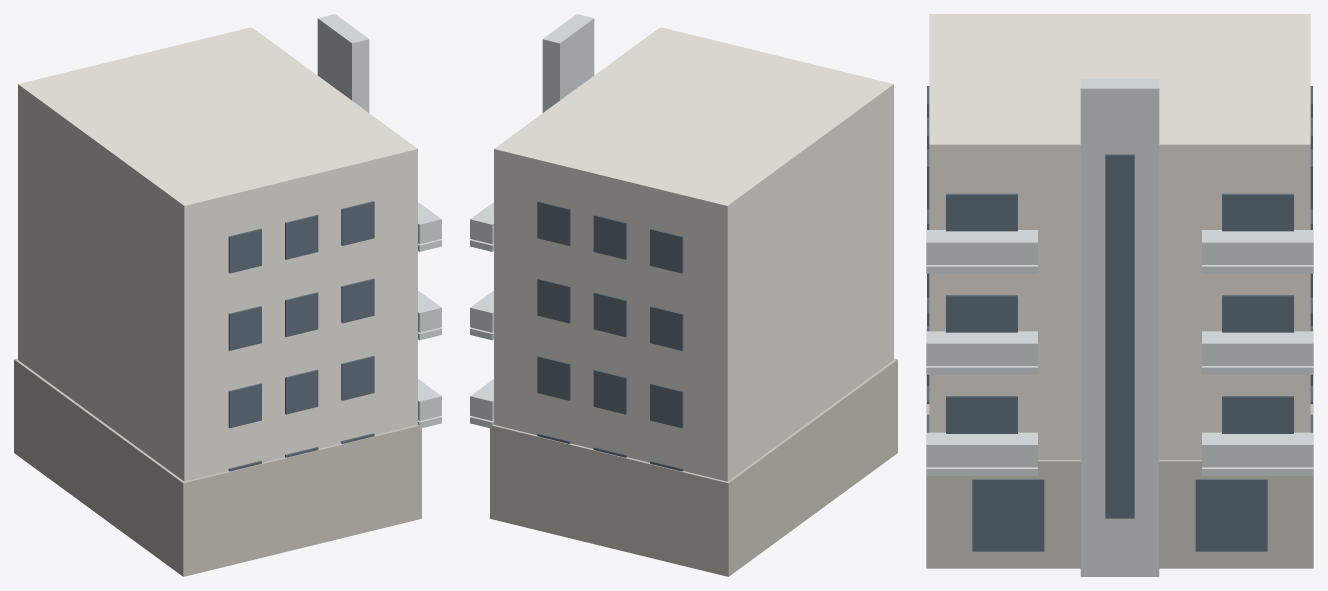
Rendered from rambla_building_4.glb.
3 views of the same model, side by side, from view 1: azimuth 30°, elevation 25°; view 2: azimuth 150°, elevation 25°; view 3: azimuth 270°, elevation 25° (orthographic). The views are drawn at different scales.
Visible parts, largest first — view 1: RamblaBuilding_4; view 2: RamblaBuilding_4; view 3: RamblaBuilding_4.
Boxes of the visible parts, x1,y1,x2,y2 form: RamblaBuilding_4: (14, 14, 441, 576); RamblaBuilding_4: (470, 14, 897, 576); RamblaBuilding_4: (926, 14, 1313, 576).
Size of the model in its own units: 10.4 by 16.4 by 11.8.
